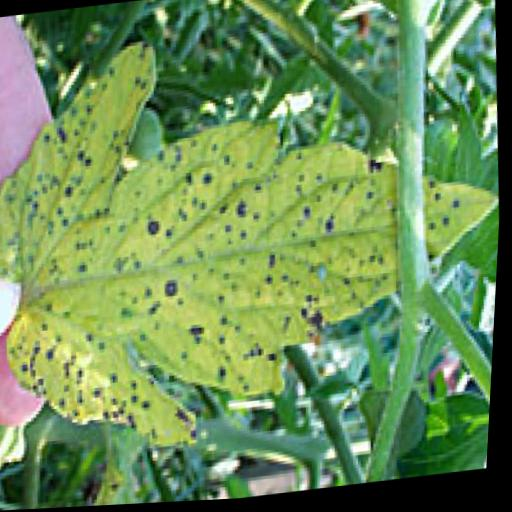Septoria: (0, 0, 511, 478)
